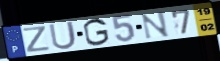5: (110, 13, 137, 44)
7: (169, 8, 192, 36)
G: (82, 17, 111, 47)
N: (140, 10, 172, 41)
U: (48, 20, 79, 51)
Z: (22, 25, 52, 54)
